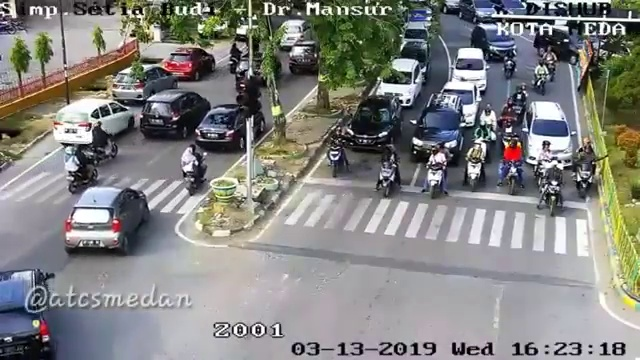car: (65, 186, 145, 256), (1, 271, 61, 360), (53, 98, 135, 147), (195, 102, 265, 155), (411, 93, 463, 163), (523, 100, 572, 172), (141, 91, 208, 143), (345, 94, 400, 154), (112, 65, 176, 106), (533, 24, 589, 67), (537, 25, 588, 69), (378, 57, 422, 107), (440, 78, 480, 131), (164, 47, 215, 84), (471, 23, 516, 62), (454, 46, 487, 94), (288, 41, 322, 78), (279, 19, 312, 56), (399, 40, 430, 79), (458, 1, 495, 24)
motorbike: (572, 139, 600, 200), (64, 144, 99, 192), (497, 136, 523, 195), (86, 120, 118, 165), (538, 161, 563, 216), (424, 143, 448, 199), (373, 144, 398, 197), (182, 144, 205, 196), (464, 141, 487, 192), (327, 126, 348, 178), (537, 141, 554, 188), (510, 82, 529, 124), (478, 106, 497, 146), (499, 103, 516, 146), (532, 58, 549, 98), (542, 46, 558, 82), (503, 50, 517, 80)
